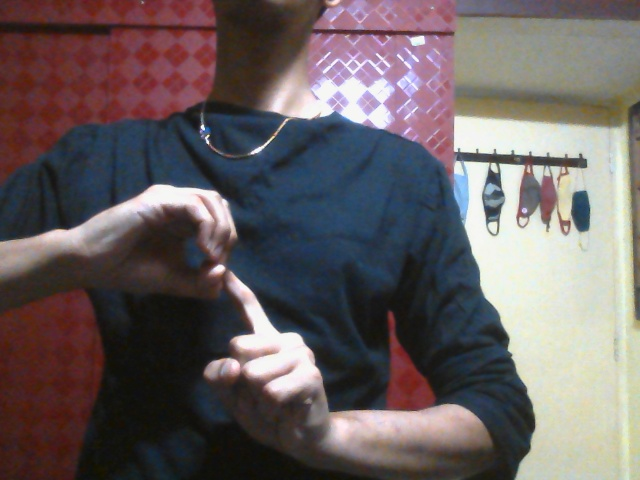Q: (110, 183, 330, 452)
